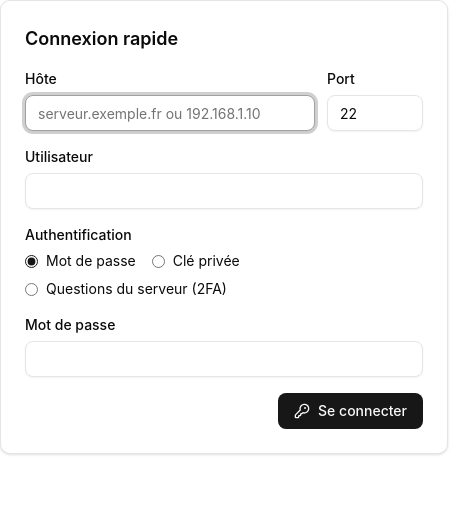
Scenario: formulaire de connexion rapide › refuse un port invalide sans rien envoyer
Type "srv" into the field labelled "Hôte" at (170, 113), box x1=25 y1=95 x2=315 y2=131
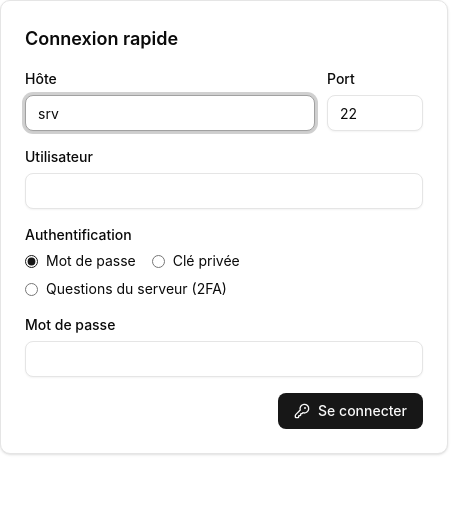
Type "root" into the field labelled "Utilisateur" at (224, 191), box x1=25 y1=173 x2=423 y2=209
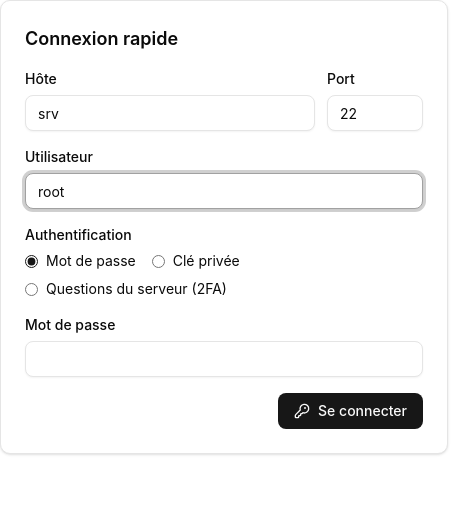
Replace the text in the field labelled "Port" with "70000" at (375, 113), box x1=327 y1=95 x2=423 y2=131
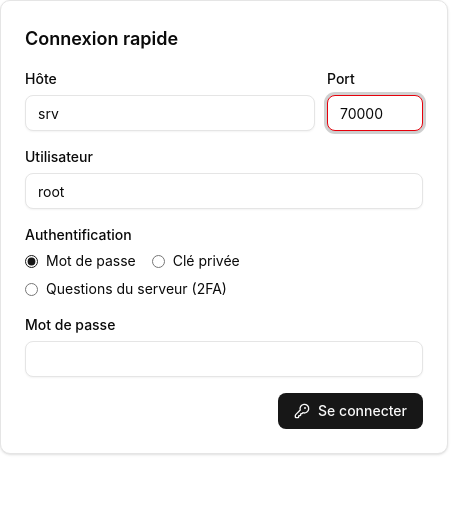
Type "x" into the password field labelled "Mot de passe" at (224, 359), box x1=25 y1=341 x2=423 y2=377
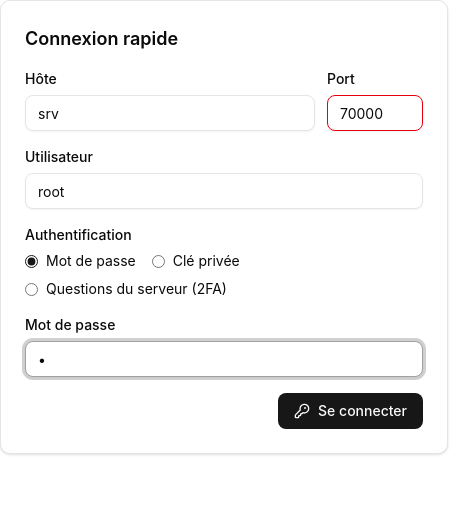
Click the button "Se connecter" at (350, 411), box x1=278 y1=393 x2=423 y2=429
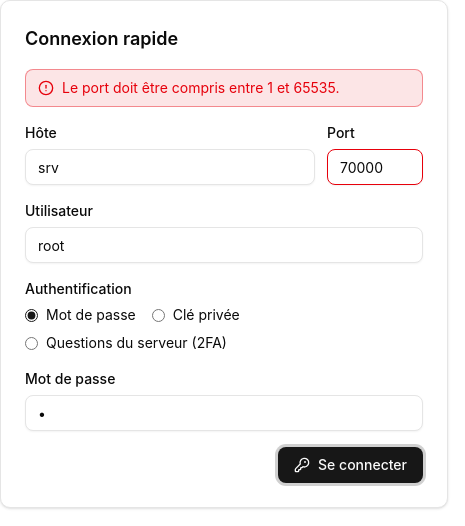
Check: the message shows "entre 1 et 65535", box x1=62 y1=79 x2=340 y2=96
